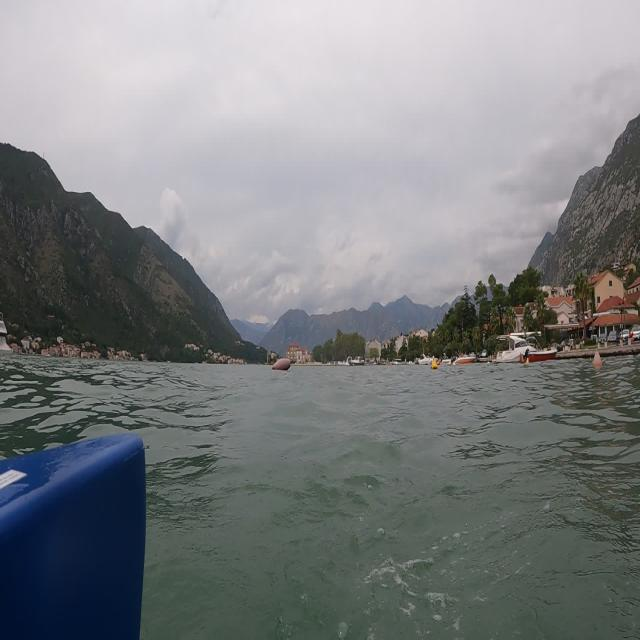buoy: (489, 329, 559, 370), (268, 354, 298, 375), (586, 347, 604, 371), (429, 354, 439, 370)
